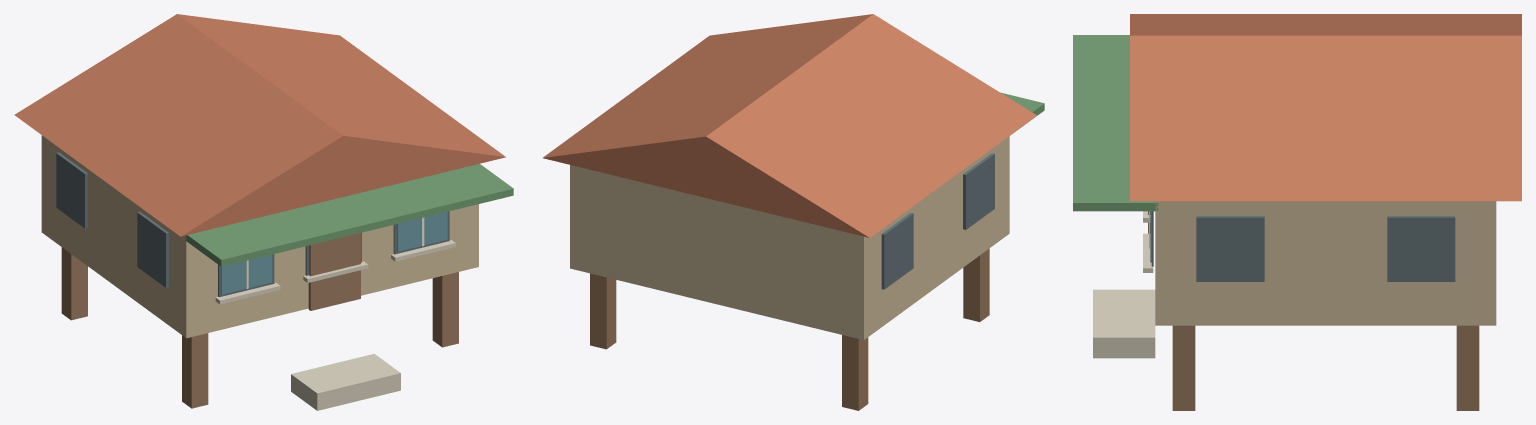
File: stilt-0.glb
The picture shows the model from 3 angles, left to right: view 1: azimuth 30°, elevation 25°; view 2: azimuth 150°, elevation 25°; view 3: azimuth 270°, elevation 25°; orthographic projection. The views are drawn at different scales.
Size of the model in its own units: 7.8 by 5.8 by 7.9.
